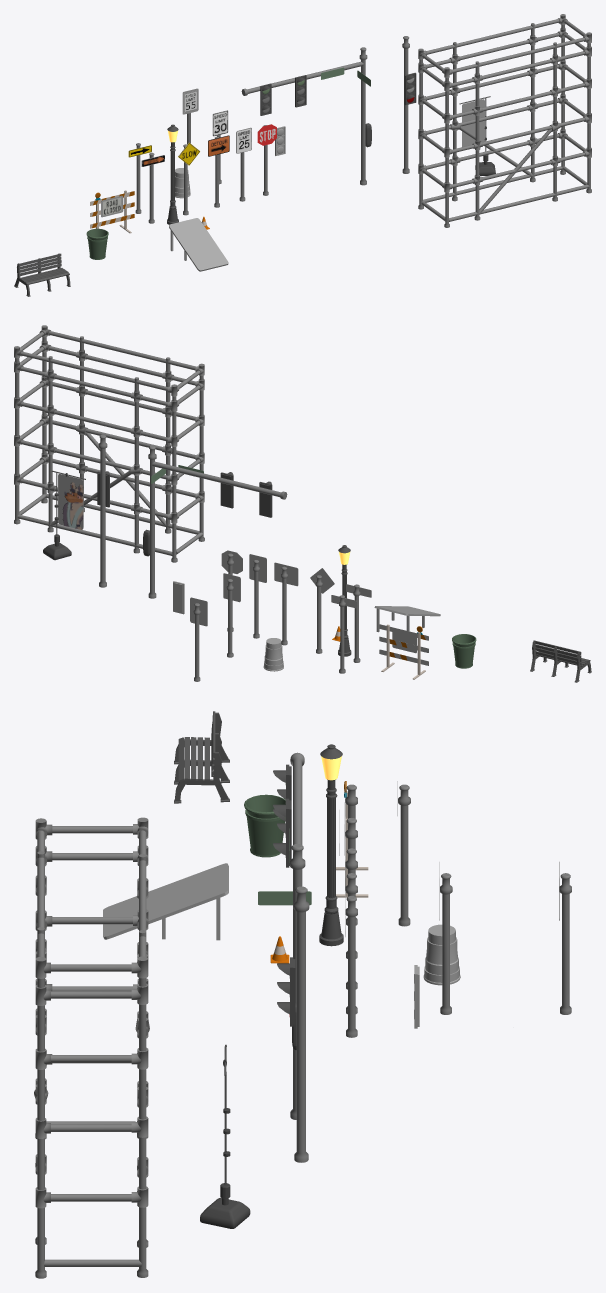
Rendered from Textured Props.fbx.
3 renders of one model, top to bottom at view 1: azimuth 30°, elevation 25°; view 2: azimuth 150°, elevation 25°; view 3: azimuth 270°, elevation 25°, orthographic. The views are drawn at different scales.
Visible parts, largest first — view 1: pCube105, Wire_Pole18 (×2), Wire_Pole13 (×2), Wire_Pole9 (×2), Wire_Pole17 (×2), Wire_Pole15 (×2), Wire_Pole16 (×2), Wire_Pole14 (×2), Wire_Pole11 (×2), Wire_Pole10 (×2), Wire_Pole8 (×2), pCube88 (×2) (+9 smaller); view 2: Wire_Pole18 (×2), pCube110, Wire_Pole8 (×2), Wire_Pole17 (×2), Wire_Pole9 (×2), Wire_Pole16 (×2), Wire_Pole11 (×2), Wire_Pole13 (×2), Wire_Pole15 (×2), Wire_Pole2, Wire_Pole1, Wire_Pole (+5 smaller); view 3: pCube105, Wire_Pole2, Street_Lamp, Wire_Pole4 (×2), Trash_Can, Wire_Pole11, Wire_Pole8, Wire_Pole18 (×2), pCylinder75, Wire_Pole7, Wire_Pole3, Wire_Pole (+3 smaller).
Boxes of the visible parts, box(x1,y1,x2,y2) form: pCube105: box(169, 218, 228, 271); Wire_Pole18 (×2): box(426, 19, 585, 72); Wire_Pole13 (×2): box(422, 166, 589, 221); Wire_Pole9 (×2): box(474, 23, 535, 220); Wire_Pole17 (×2): box(426, 32, 585, 86); Wire_Pole15 (×2): box(426, 99, 585, 152); Wire_Pole16 (×2): box(426, 64, 585, 118); Wire_Pole14 (×2): box(426, 133, 585, 187); Wire_Pole11 (×2): box(418, 43, 591, 209); Wire_Pole10 (×2): box(452, 42, 557, 201); Wire_Pole8 (×2): box(444, 25, 565, 227); pCube88 (×2): box(182, 88, 228, 136); Wire_Pole18 (×2): box(21, 331, 195, 390); pCube110: box(58, 474, 83, 529); Wire_Pole8 (×2): box(14, 358, 204, 541); Wire_Pole17 (×2): box(21, 346, 195, 406); Wire_Pole9 (×2): box(47, 356, 171, 533); Wire_Pole16 (×2): box(21, 382, 196, 441); Wire_Pole11 (×2): box(41, 337, 177, 562); Wire_Pole13 (×2): box(17, 493, 199, 555); Wire_Pole15 (×2): box(21, 420, 195, 479); Wire_Pole2: box(98, 434, 107, 587); Wire_Pole1: box(152, 461, 287, 499); Wire_Pole: box(148, 445, 156, 598); pCube105: box(103, 863, 228, 939); Wire_Pole2: box(293, 886, 309, 1162); Street_Lamp: box(319, 744, 343, 946); Wire_Pole4 (×2): box(440, 873, 571, 1014); Trash_Can: box(244, 794, 285, 857); Wire_Pole11: box(35, 978, 46, 1278); Wire_Pole8: box(137, 978, 148, 1277); Wire_Pole18 (×2): box(37, 830, 146, 957); pCylinder75: box(423, 924, 460, 985); Wire_Pole7: box(398, 784, 410, 926); Wire_Pole3: box(345, 896, 357, 1037); Wire_Pole: box(290, 844, 305, 1119).
Size of the model in its own units: 665 by 191 by 292.
27 materials, 10 textured.
